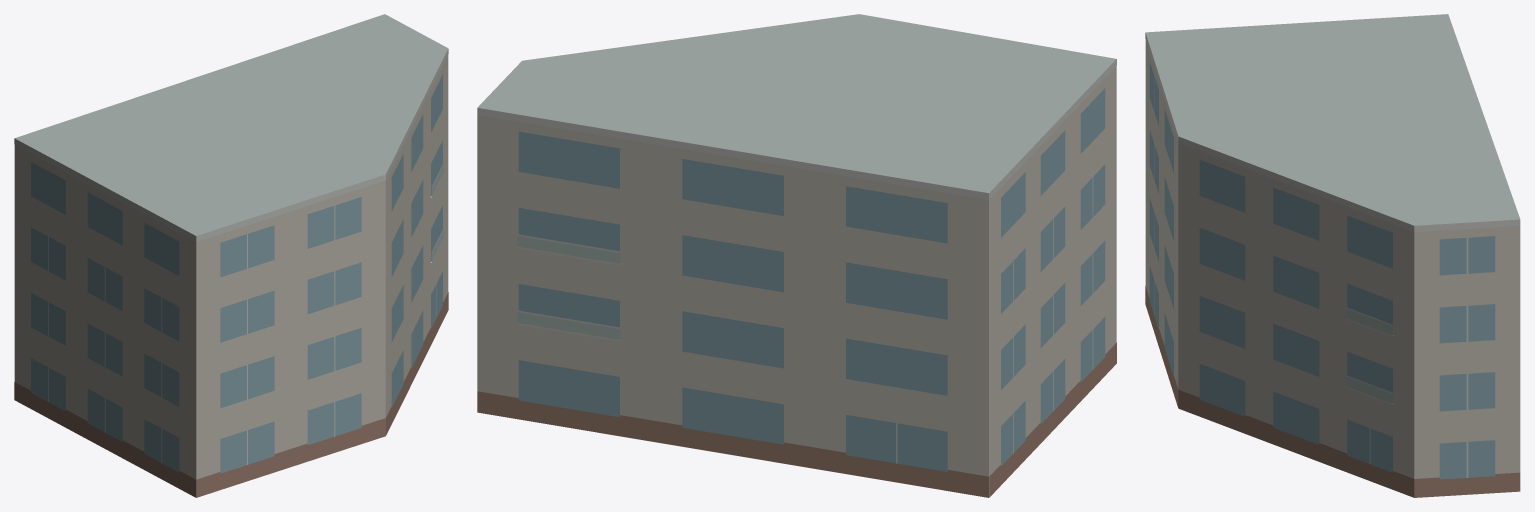
File: survey-upis-32817592.glb
3 views of the same model, side by side, from view 1: azimuth 30°, elevation 25°; view 2: azimuth 150°, elevation 25°; view 3: azimuth 270°, elevation 25° (orthographic). The views are drawn at different scales.
Parts seen in each view (by area): view 1: survey-upis-32817592.tmp; view 2: survey-upis-32817592.tmp; view 3: survey-upis-32817592.tmp.
Boxes of the visible parts, bbox=[...] form: survey-upis-32817592.tmp: bbox=[14, 14, 448, 497]; survey-upis-32817592.tmp: bbox=[477, 14, 1116, 497]; survey-upis-32817592.tmp: bbox=[1145, 14, 1520, 497].
Bounding box in the file's own units: 17.79 × 10.65 × 13.31.
